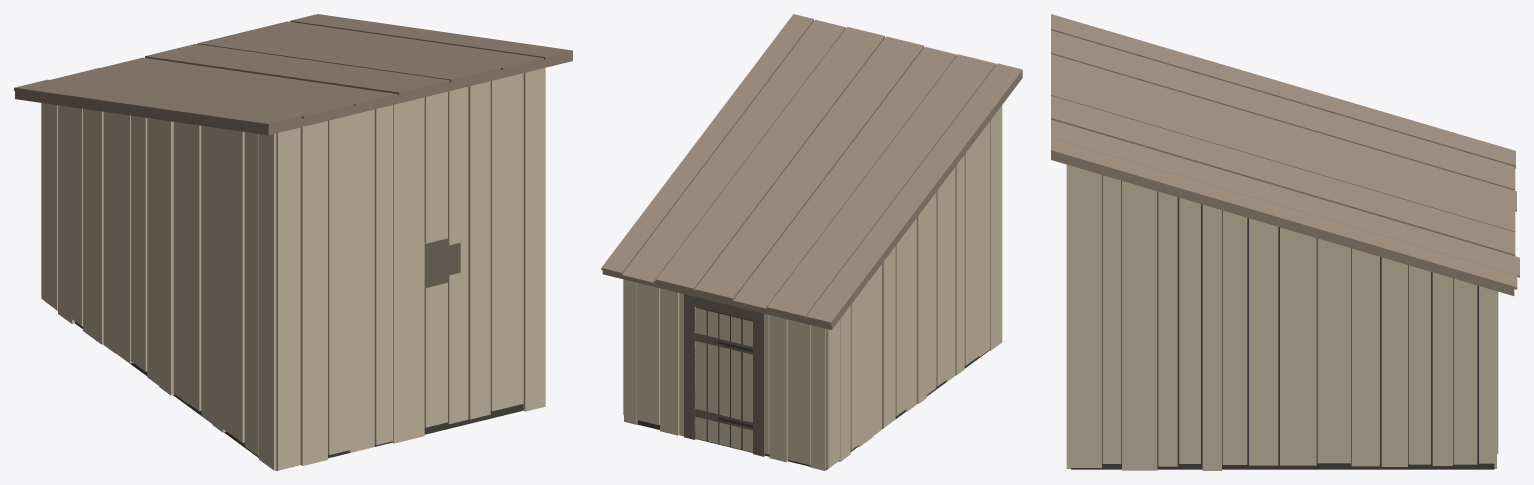
Rendered from recon_1835_south_a4_048__inferred_1835.glb.
3 views of the same model, side by side, from view 1: azimuth 30°, elevation 25°; view 2: azimuth 150°, elevation 25°; view 3: azimuth 270°, elevation 25° (orthographic). The views are drawn at different scales.
Visible parts, largest first — view 1: recon_1835_south_a4_048__inferred_1835; view 2: recon_1835_south_a4_048__inferred_1835; view 3: recon_1835_south_a4_048__inferred_1835.
Boxes of the visible parts, left/top/right/bottom form: recon_1835_south_a4_048__inferred_1835: left=14, top=14, right=572, bottom=470; recon_1835_south_a4_048__inferred_1835: left=601, top=14, right=1022, bottom=470; recon_1835_south_a4_048__inferred_1835: left=1051, top=14, right=1519, bottom=470.
Size of the model in its own units: 3.38 by 3.82 by 4.94.
